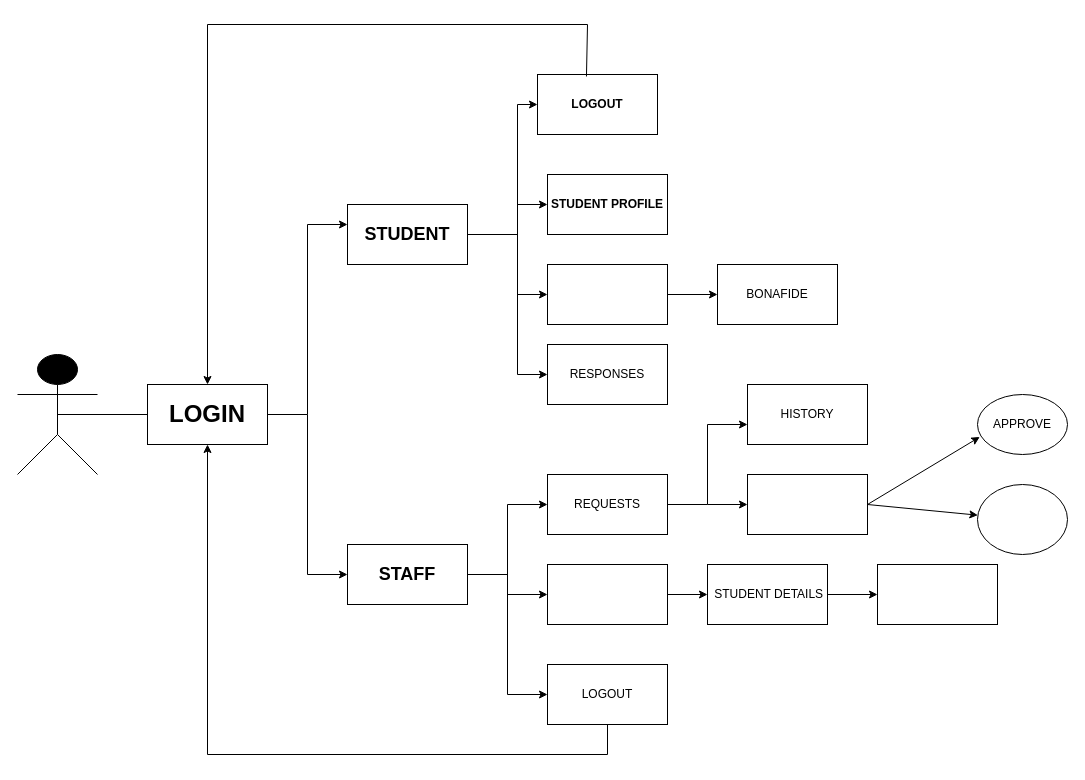
Some shapes in this 1085 by 780 pixel diagram are drawn without their labels. Here are the shapes that lost their labels. From the top down, the centre of each, then its label:
[607,294]: SERVICES
[57,414]: USER
[807,504]: PENDING
[607,594]: STUDENT BIO
[937,594]: PARTICULAR STUDENT DETAIL
